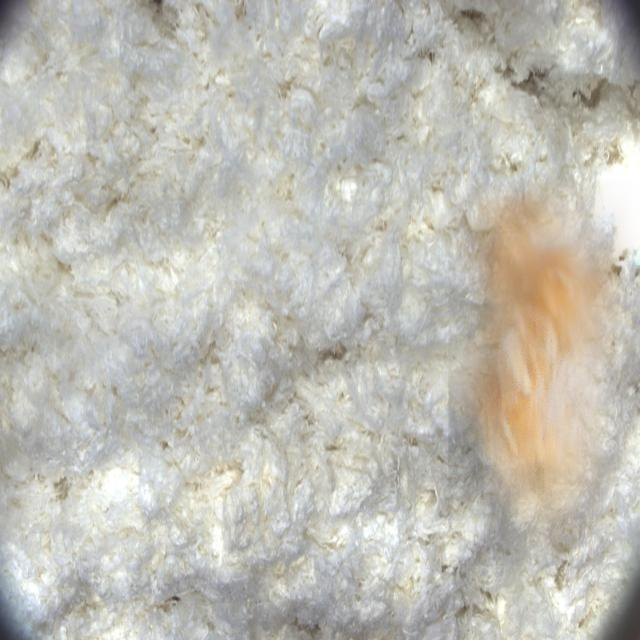dust: (448, 179, 640, 566)
